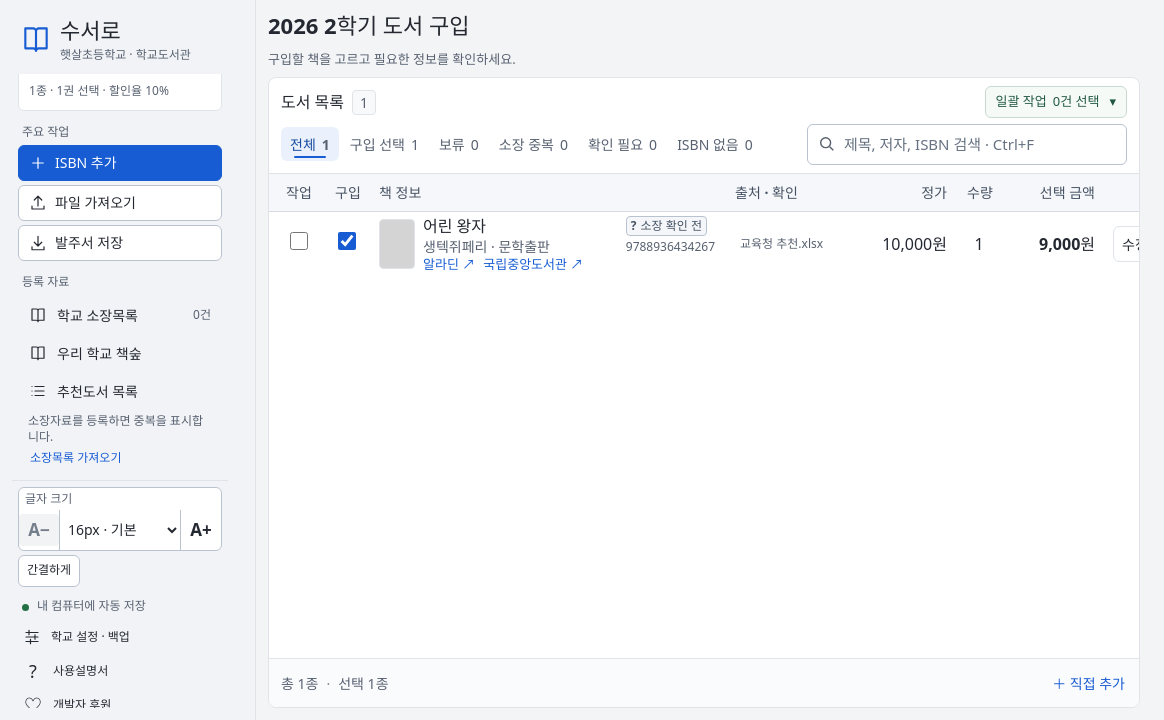
opens registered collections from the side menu and returns to the purchase table
(page scrolled)
Expected: the button "어린 왕자" is shown, [423, 216, 618, 236]
Click the button with aria-label "추천도서 목록 열람".
click(120, 391)  # box [18, 373, 222, 409]
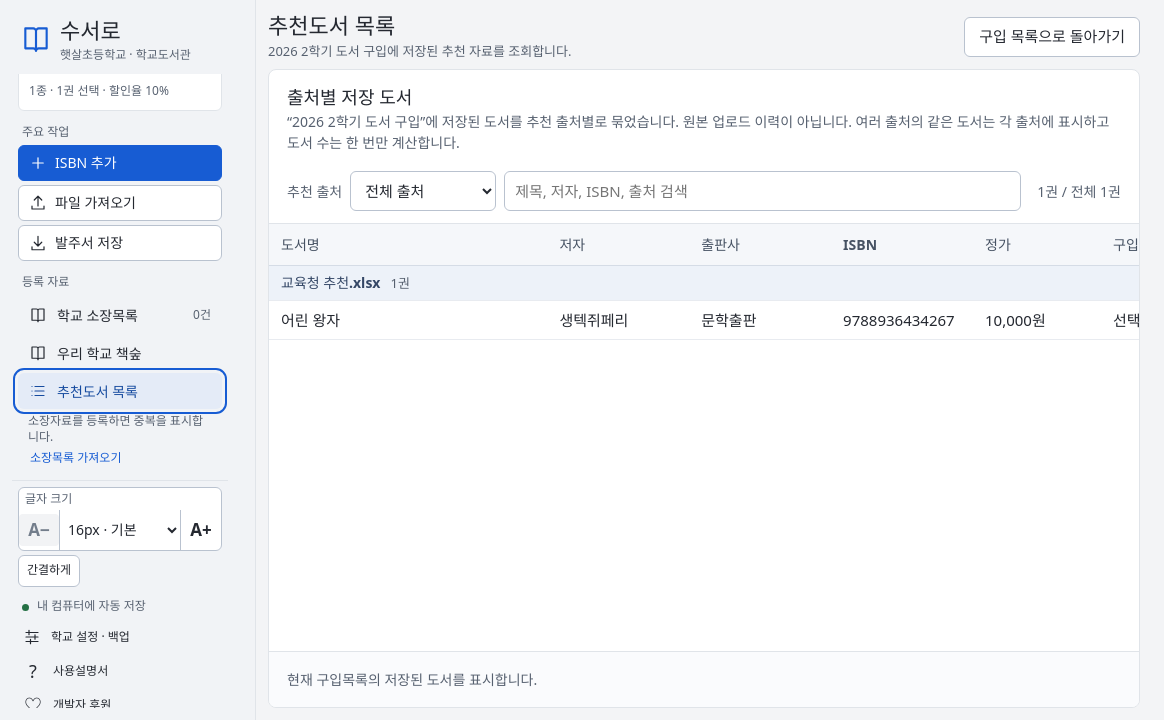
Result: the heading "추천도서 목록" is shown at [268, 10, 395, 40]
Click the button "구입 목록으로 돌아가기".
click(1052, 36)  # box [964, 16, 1140, 56]
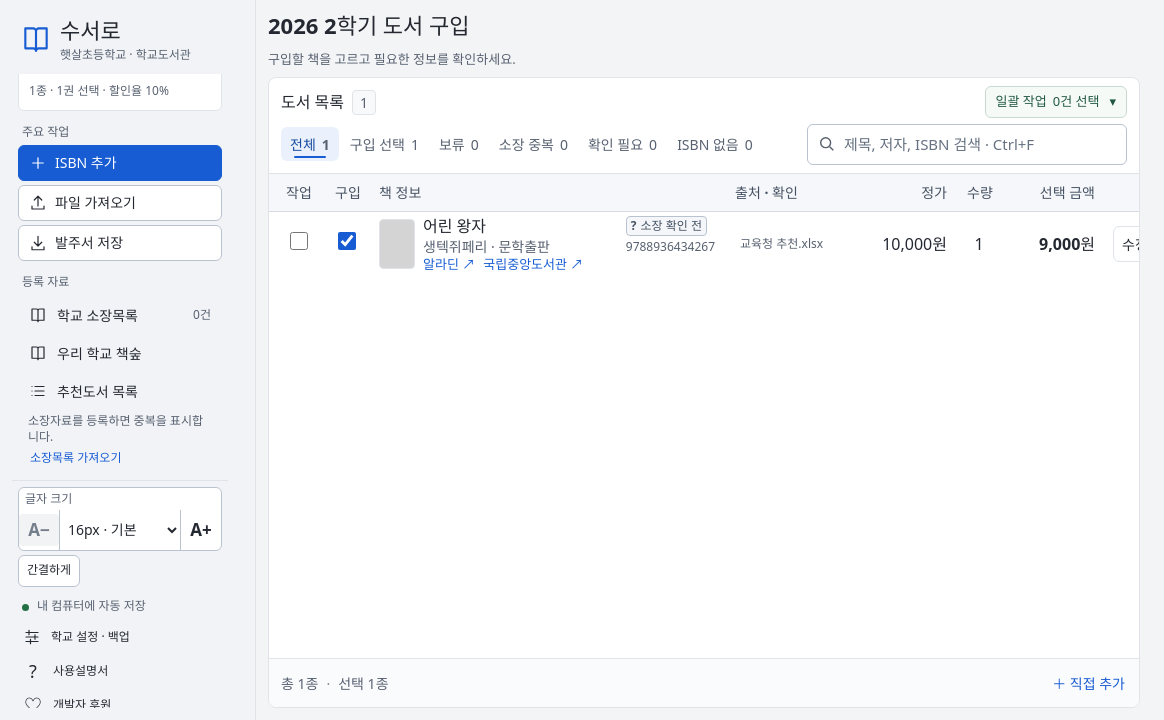
Result: the table named "도서 목록" is shown at [269, 174, 1139, 277]
